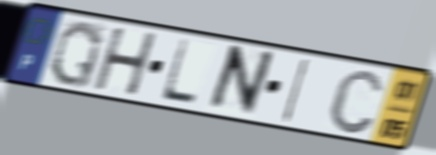C: (326, 67, 386, 137)
H: (91, 26, 161, 99)
I: (278, 56, 313, 125)
L: (158, 36, 200, 108)
N: (202, 43, 279, 119)
Q: (46, 18, 106, 91)
